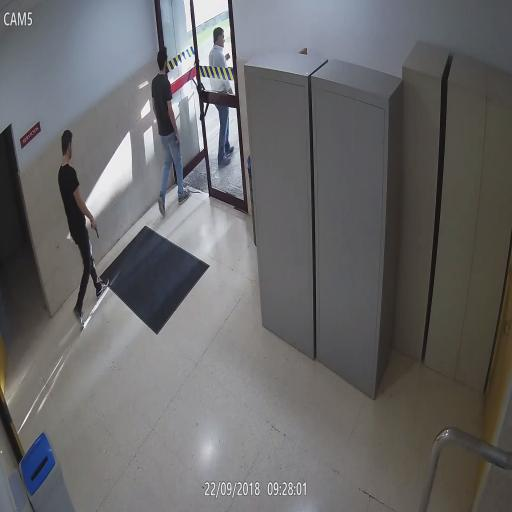Handgun: (89, 216, 100, 239), (174, 132, 181, 152)
